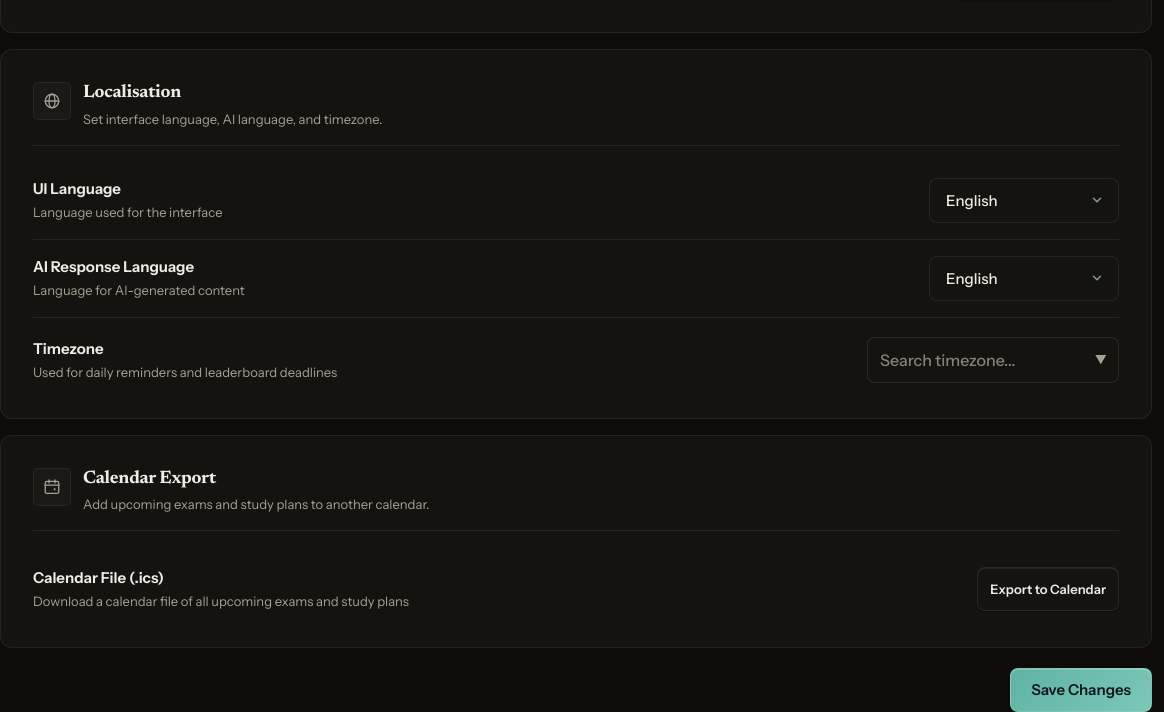
PreferencesTab › confirms the save with a toast
The image size is (1164, 712).
(page scrolled)
Click the button "Save Changes": (1081,690) [1010,668,1152,711]
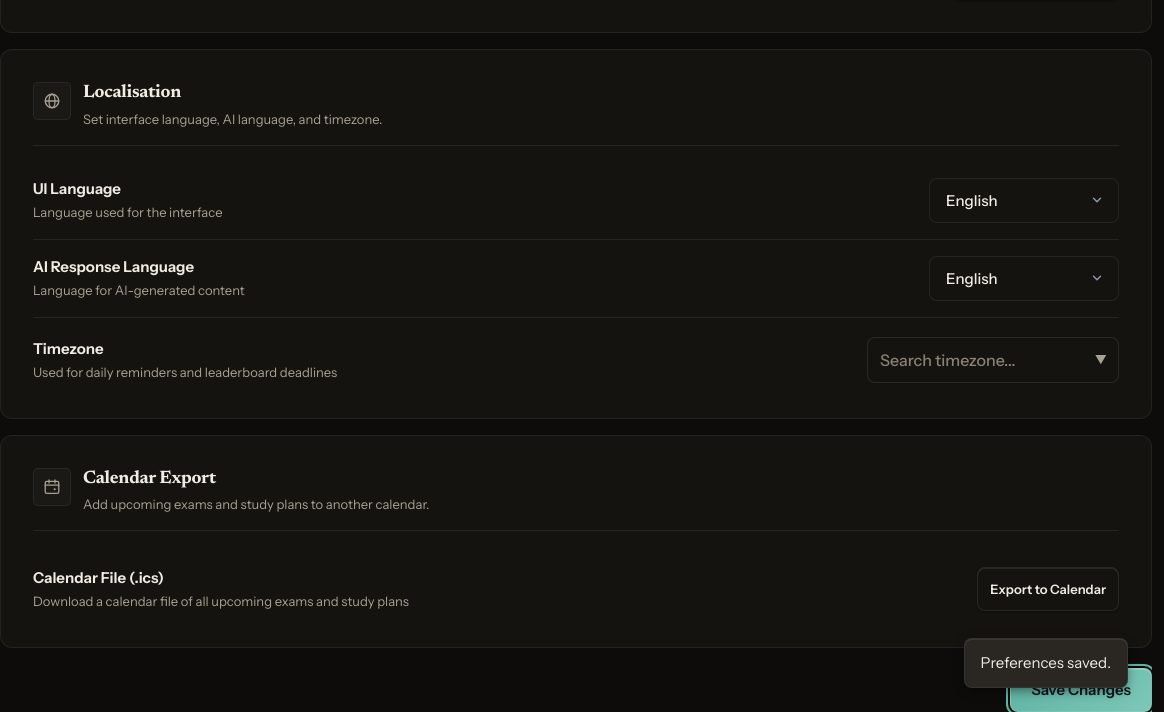
Check: the text "Preferences saved." is shown, box [981,651,1111,675]
